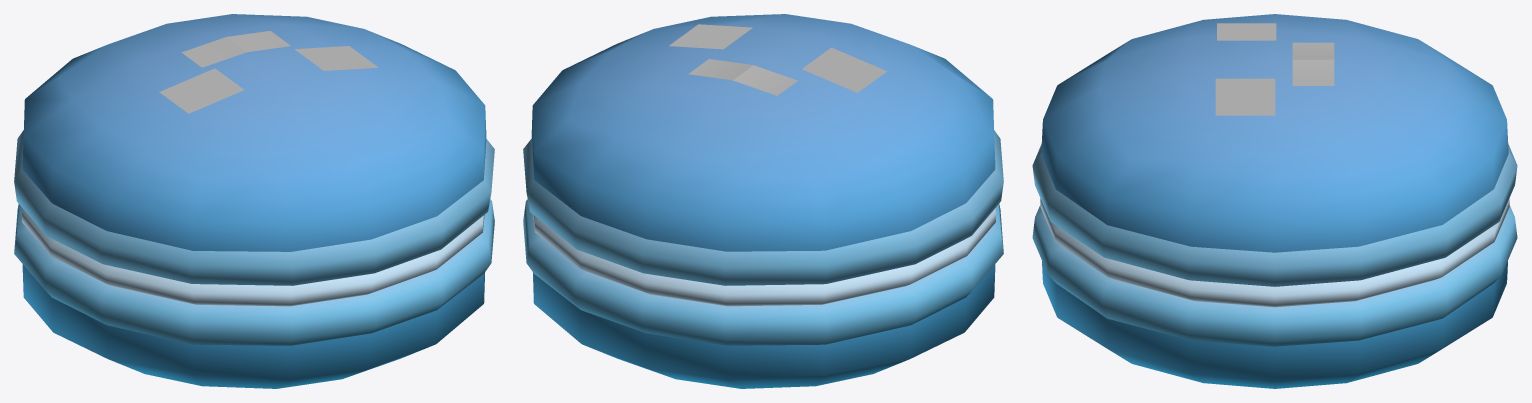
File: macaron_blue_smile.fbx
3 views of the same model, side by side, from view 1: azimuth 30°, elevation 25°; view 2: azimuth 150°, elevation 25°; view 3: azimuth 270°, elevation 25° (orthographic).
Parts seen in each view (by area): view 1: macaron_blue, smile; view 2: macaron_blue, smile; view 3: macaron_blue, smile.
Boxes of the visible parts, left/top/right/bottom form: macaron_blue: left=14, top=14, right=494, bottom=388; smile: left=159, top=31, right=378, bottom=113; macaron_blue: left=523, top=14, right=1003, bottom=388; smile: left=669, top=24, right=886, bottom=95; macaron_blue: left=1032, top=14, right=1517, bottom=388; smile: left=1215, top=23, right=1334, bottom=115.
Size of the model in its own units: 18.89 by 12.1 by 18.89.
Materials: 2 (1 with a texture image).
